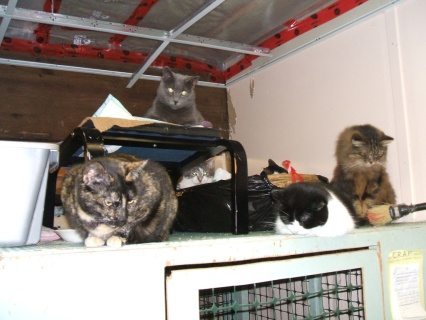Cat: (57, 150, 183, 245), (328, 126, 395, 226), (262, 177, 366, 236), (143, 65, 205, 125), (179, 157, 214, 184), (262, 157, 287, 175)
